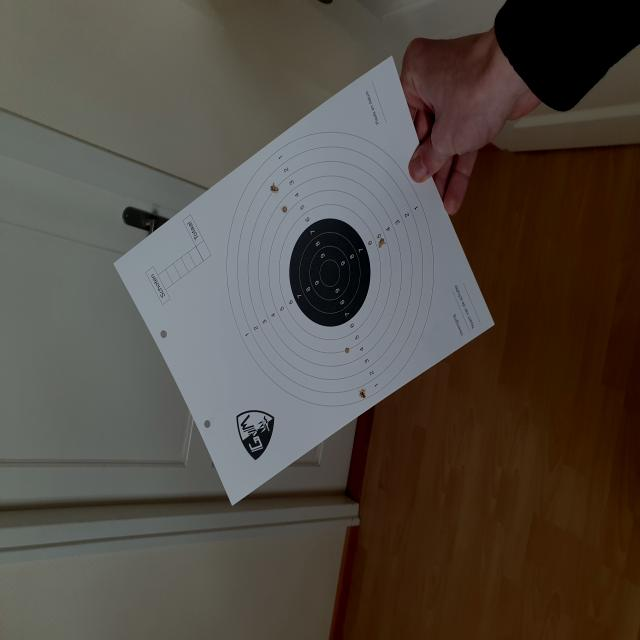1: (358, 388, 367, 398)
3: (269, 182, 276, 192), (274, 186, 280, 196)
4: (280, 204, 288, 214)
5: (343, 345, 351, 356), (379, 237, 386, 245), (377, 241, 382, 249)
Target: (225, 129, 435, 406)
black_contour: (289, 218, 371, 326)
